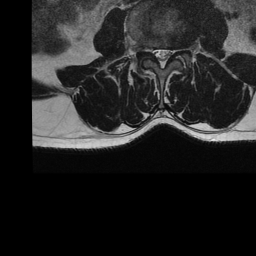CCS_normal: (160, 44, 165, 72)
LFS_severe_stenosis: (173, 43, 180, 60)
LLS_stenosis: (165, 44, 173, 63)
RFS_stenosis: (146, 43, 153, 58)
RLS_normal: (153, 44, 159, 63)
